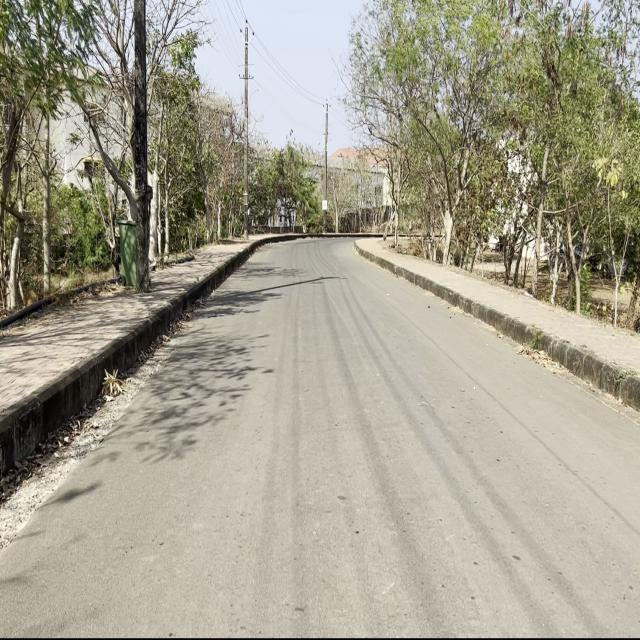Road: (4, 239, 638, 629)
